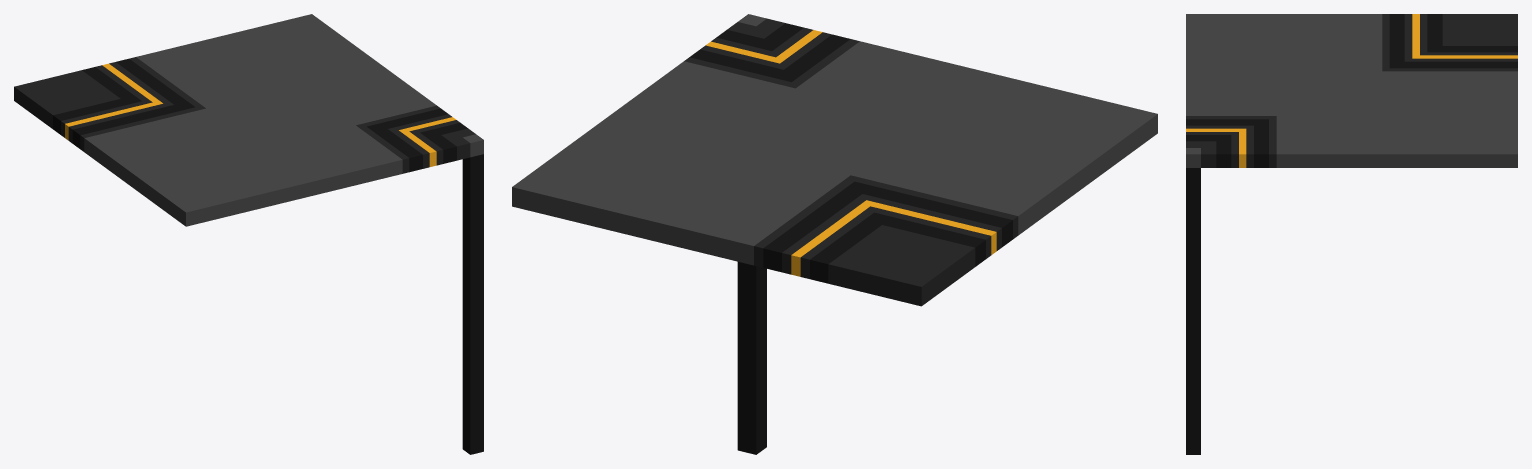
The model's file is mesh_hanger_wall_pillar_top.obj.
3 renders of one model, left to right at view 1: azimuth 30°, elevation 25°; view 2: azimuth 150°, elevation 25°; view 3: azimuth 270°, elevation 25°, orthographic. The views are drawn at different scales.
Size of the model in its own units: 4.4 by 4.4 by 4.4.
1 material, 1 textured.
